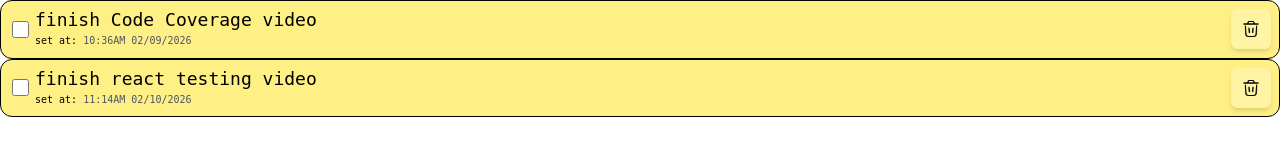
Test: test suite: TaskContainer › delete item after click delete button
This screenshot has width=1280, height=160.
expect the text "finish Code Coverage video" is shown: met, box [35, 6, 317, 33]
Step 1. Click the button without text in the row of "finish Code Coverage video" → (1251,29), box [1231, 9, 1271, 49]
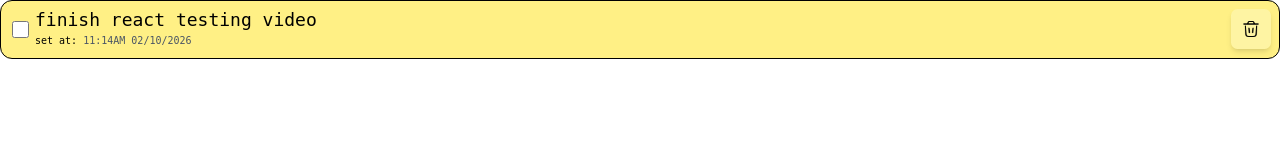
expect the text "finish Code Coverage video" is gone: met
